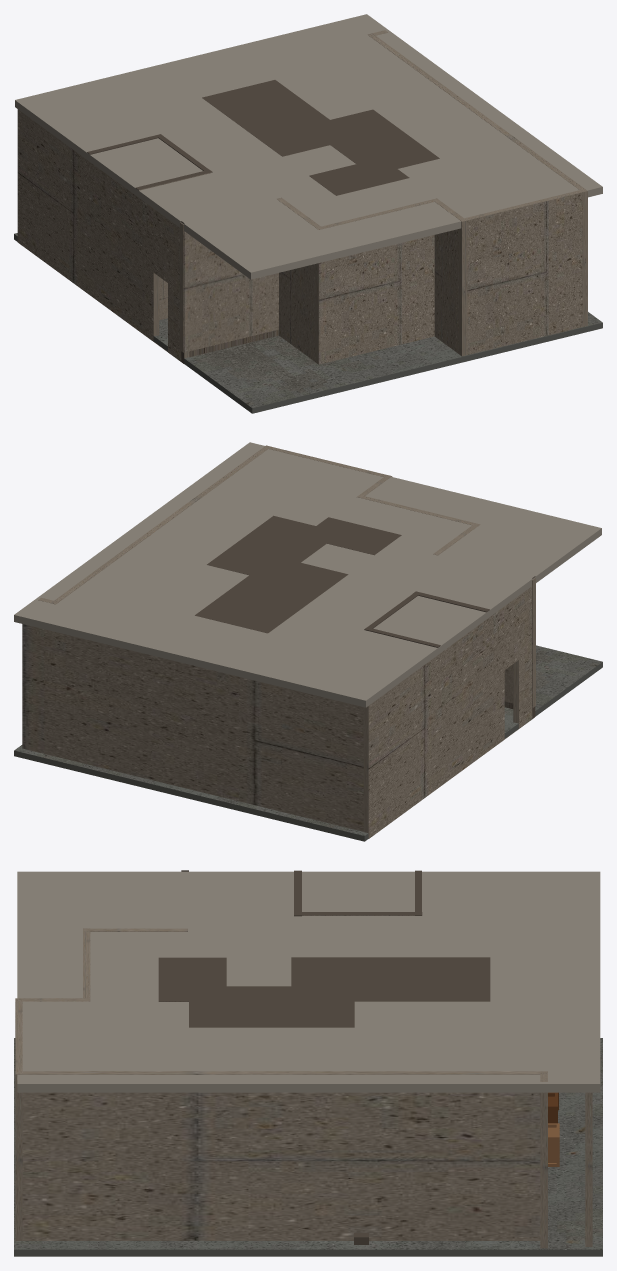
File: area4.glb
The picture shows the model from 3 angles, top to bottom: view 1: azimuth 30°, elevation 25°; view 2: azimuth 150°, elevation 25°; view 3: azimuth 270°, elevation 25°; orthographic projection. The views are drawn at different scales.
Visible parts, largest first — view 1: outer walls; view 2: outer walls; view 3: outer walls.
Boxes of the visible parts, left/top/right/bottom form: outer walls: left=14, top=14, right=602, bottom=413; outer walls: left=14, top=442, right=602, bottom=841; outer walls: left=14, top=870, right=602, bottom=1256.
Bounding box in the file's own units: 151 × 57.68 × 176.
Materials: 20 (20 with a texture image).
